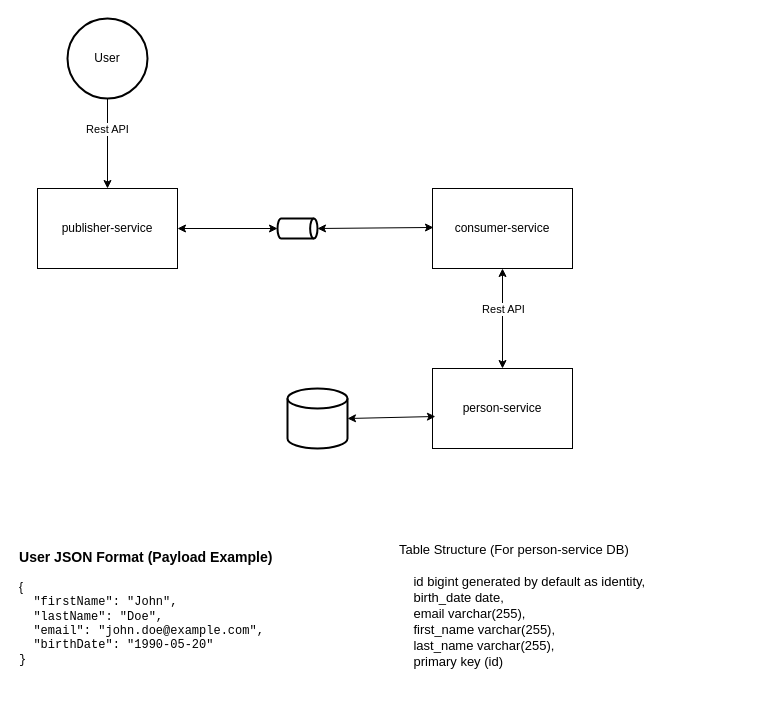
Image size: 763x705. Some labels were removed from this diagram. The box of each missing label's shape, as (x1, y1, x2, y2) in pixels:
MQ: (276, 217, 318, 239)
person DB: (286, 387, 348, 449)
